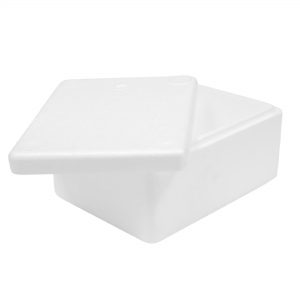Foam Box: (5, 71, 284, 247)
